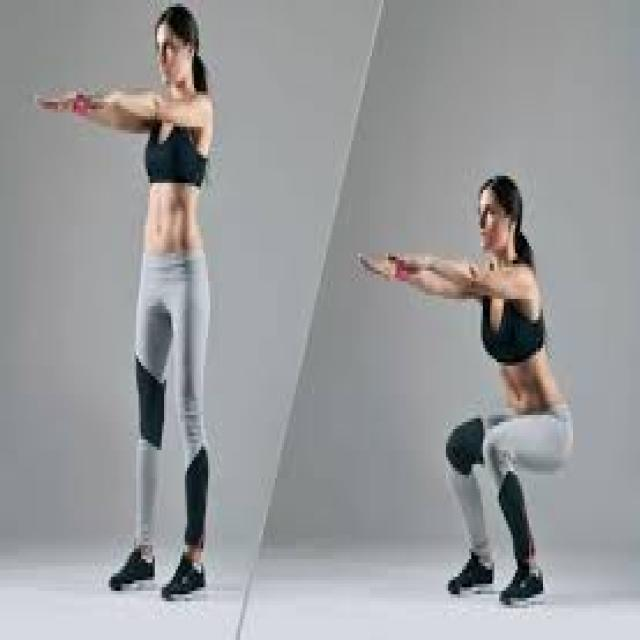squat: (361, 173, 574, 608)
